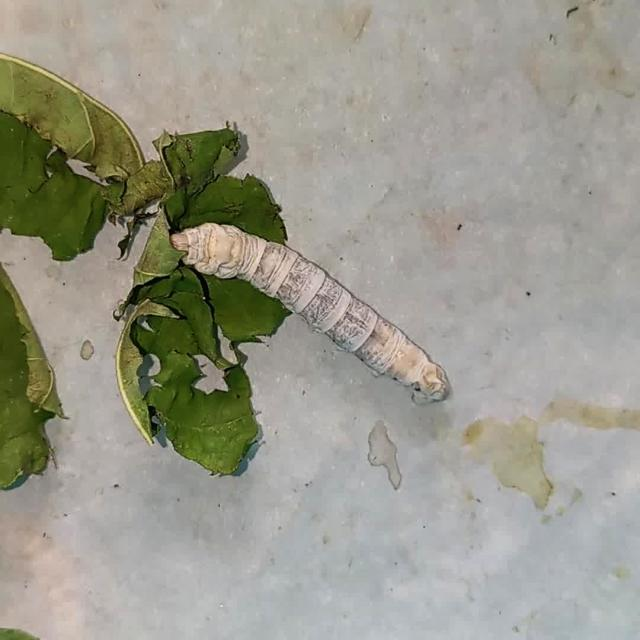Grasserie: (166, 203, 455, 411)
